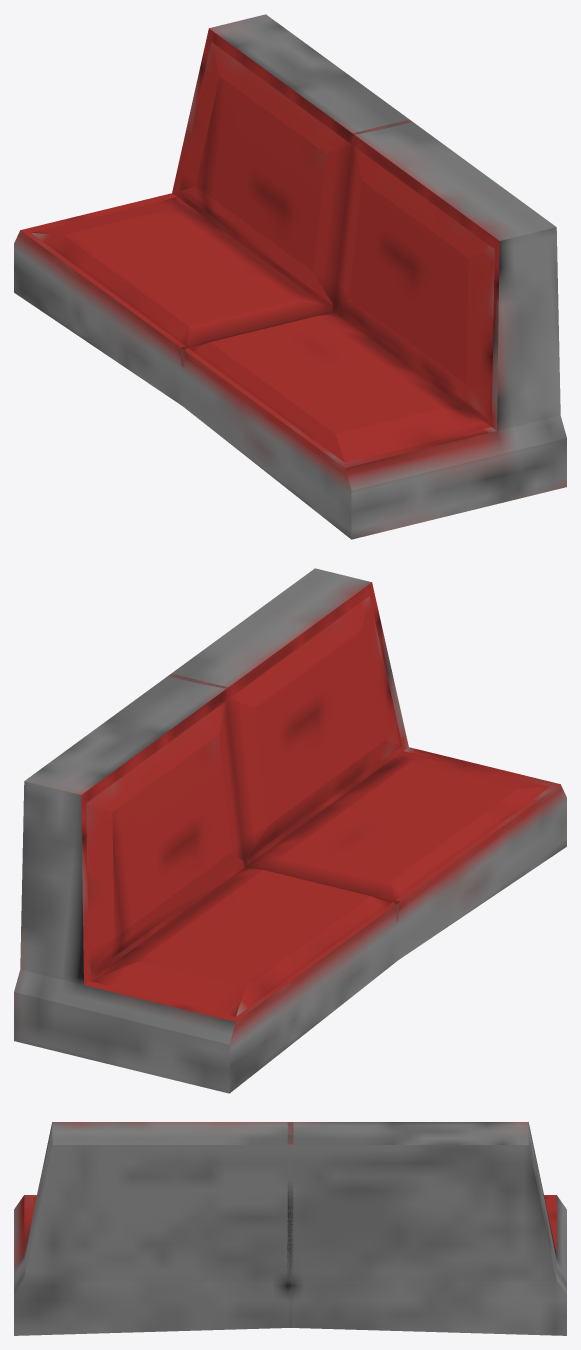
Rendered from booth seat.glb.
3 views of the same model, one above another, from view 1: azimuth 30°, elevation 25°; view 2: azimuth 150°, elevation 25°; view 3: azimuth 270°, elevation 25° (orthographic). The views are drawn at different scales.
Visible parts, largest first — view 1: Booth Seat; view 2: Booth Seat; view 3: Booth Seat.
Part boxes in pixels (box(x1,y1,x2,y2)): Booth Seat: box(14, 14, 566, 539); Booth Seat: box(14, 568, 566, 1093); Booth Seat: box(14, 1122, 566, 1335).
Bounding box in the file's own units: 1.09 × 1.09 × 2.78.
1 material, 1 textured.
